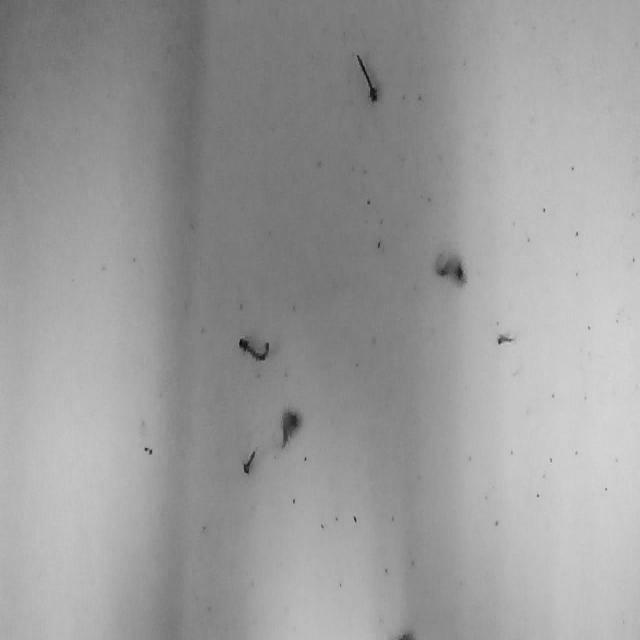larvas: (356, 52, 378, 102), (434, 253, 466, 284), (237, 336, 269, 361), (280, 408, 298, 448), (242, 448, 256, 476), (498, 332, 516, 344)
